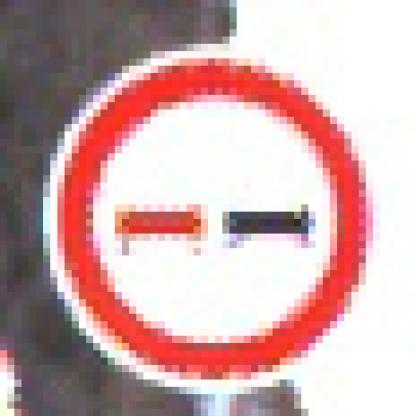No Overtaking: (44, 38, 381, 381)
